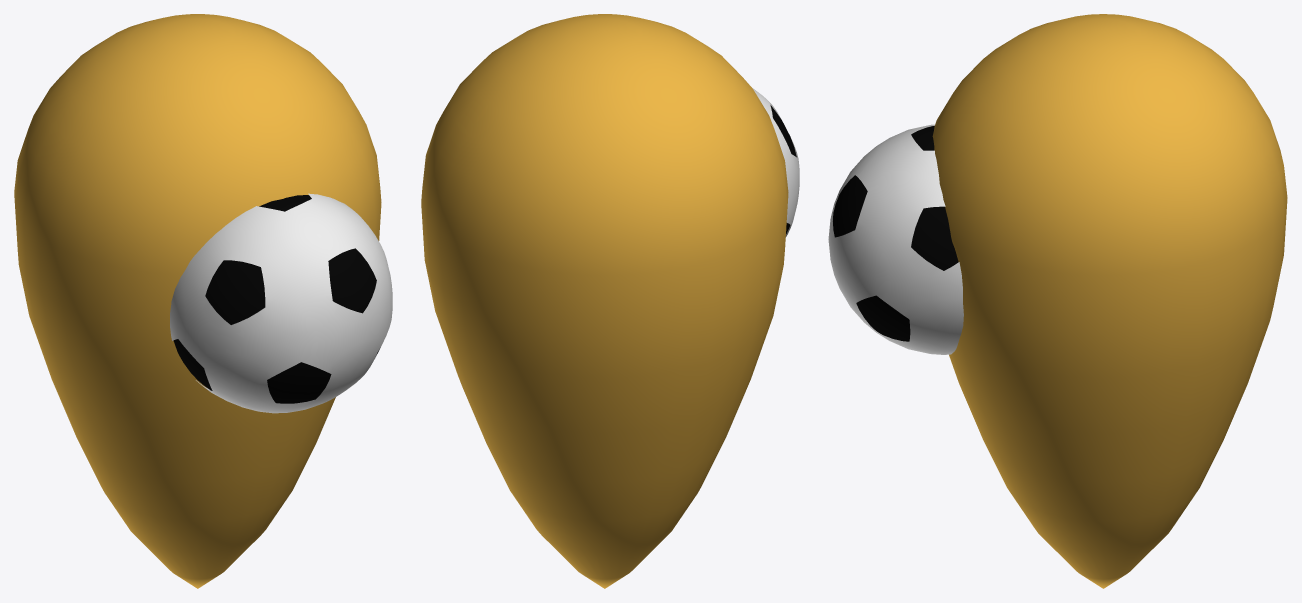
The model's file is sport.glb.
3 renders of one model, left to right at view 1: azimuth 30°, elevation 25°; view 2: azimuth 150°, elevation 25°; view 3: azimuth 270°, elevation 25°, orthographic.
Parts seen in each view (by area): view 1: pin, w, b; view 2: pin, w; view 3: pin, w, b.
Part boxes in pixels (bbox=[...]): pin: bbox=[14, 14, 381, 588]; w: bbox=[170, 193, 392, 413]; b: bbox=[173, 195, 380, 403]; pin: bbox=[421, 14, 788, 588]; w: bbox=[752, 88, 799, 237]; pin: bbox=[932, 14, 1287, 588]; w: bbox=[828, 124, 963, 354]; b: bbox=[833, 126, 958, 341].
Bounding box in the file's own units: 0.2435 × 0.4072 × 0.3036.
